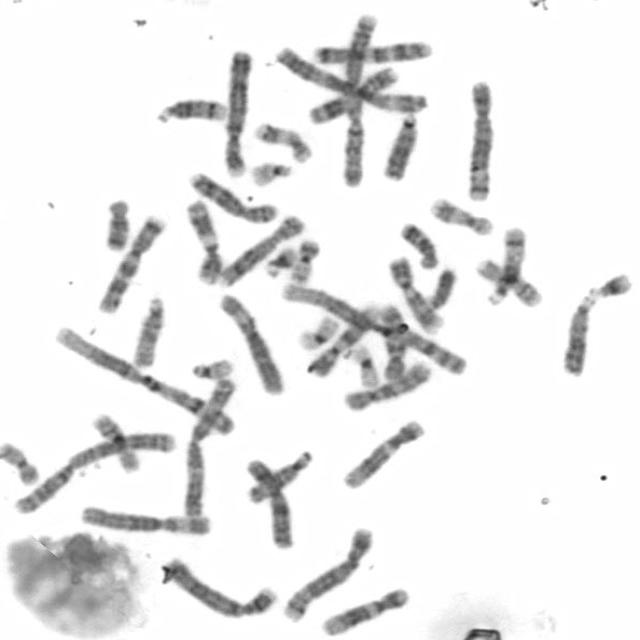A1: (52, 324, 238, 439), (278, 282, 444, 380)
A2: (3, 428, 180, 517), (339, 14, 394, 191)
A3: (274, 43, 431, 115), (179, 374, 239, 526)
B4: (158, 558, 282, 622), (217, 51, 256, 173)
B5: (280, 530, 377, 620), (461, 80, 496, 203)
C10: (344, 361, 434, 412), (378, 298, 406, 385)
C11: (305, 64, 406, 127), (181, 197, 224, 286)
C12: (337, 415, 427, 492), (318, 586, 416, 635)
C6: (213, 292, 287, 395), (72, 504, 212, 539)
C7: (94, 212, 168, 316), (308, 39, 436, 65)
C8: (218, 213, 304, 287), (184, 171, 281, 228)
C9: (304, 303, 381, 378), (381, 255, 445, 339)
D13: (558, 291, 599, 381), (380, 111, 419, 183)
D14: (478, 224, 529, 311), (148, 96, 234, 126)
D15: (246, 447, 316, 502), (129, 294, 165, 372)
E16: (473, 257, 547, 313), (90, 414, 144, 478)
E17: (424, 195, 496, 238), (250, 121, 316, 164)
E18: (395, 220, 441, 272), (100, 196, 134, 254)
F19: (295, 312, 337, 353), (346, 344, 380, 392)
F20: (0, 439, 42, 488), (286, 237, 322, 288)
G21: (258, 243, 300, 278), (590, 270, 634, 302)
G22: (190, 355, 238, 383), (248, 160, 293, 187)
X: (243, 456, 294, 557), (386, 255, 441, 329)
Y: (422, 265, 458, 312)
